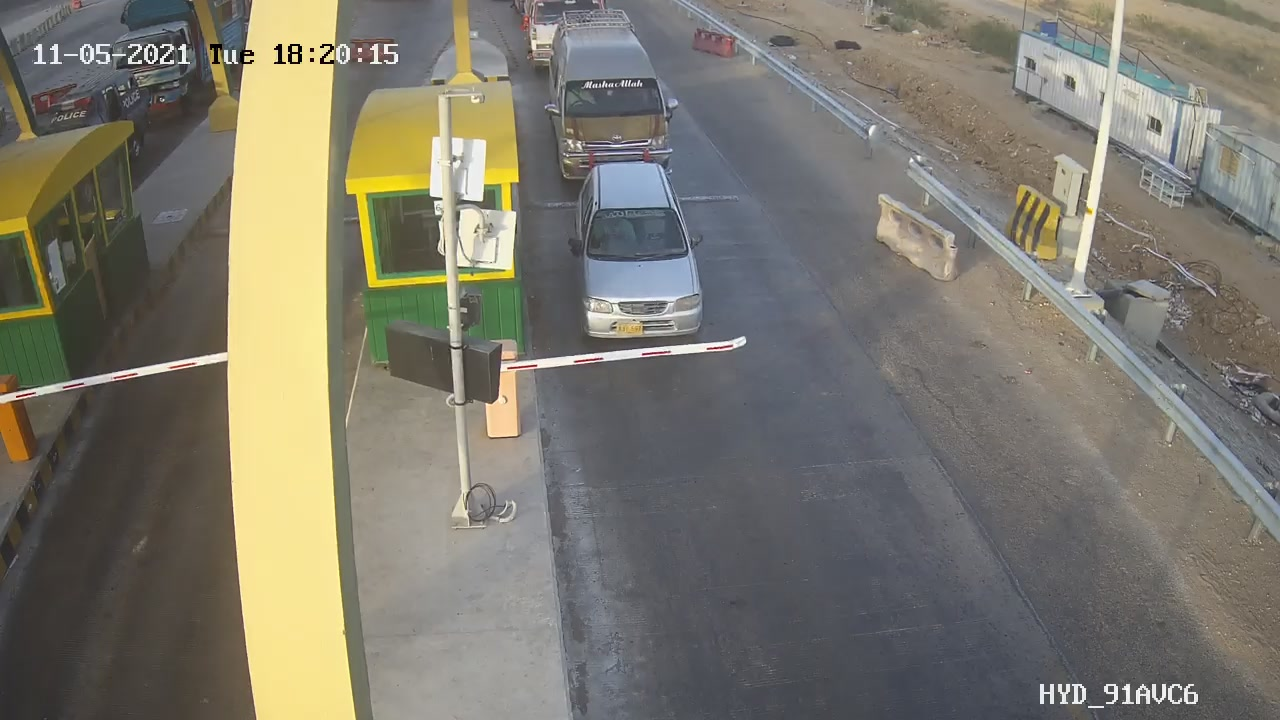F1: (563, 157, 713, 339)
